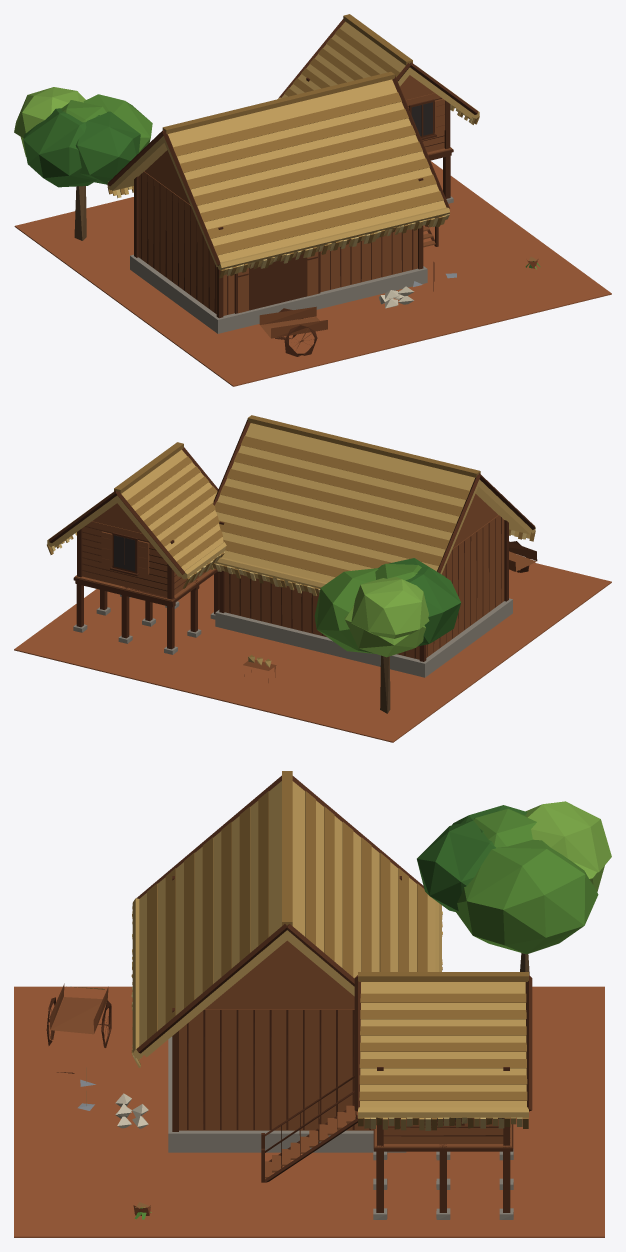
File: shop_4.glb
The picture shows the model from 3 angles, top to bottom: view 1: azimuth 30°, elevation 25°; view 2: azimuth 150°, elevation 25°; view 3: azimuth 270°, elevation 25°; orthographic projection. The views are drawn at different scales.
Visible parts, largest first — view 1: body, windows; view 2: body, windows; view 3: body.
Part boxes in pixels (<box>): body: <box>14,14,611,386</box>; windows: <box>411,102,432,136</box>; body: <box>14,415,611,742</box>; windows: <box>114,535,135,571</box>; body: <box>14,771,611,1237</box>.
Size of the model in its own units: 16.82 by 7.23 by 16.09.
